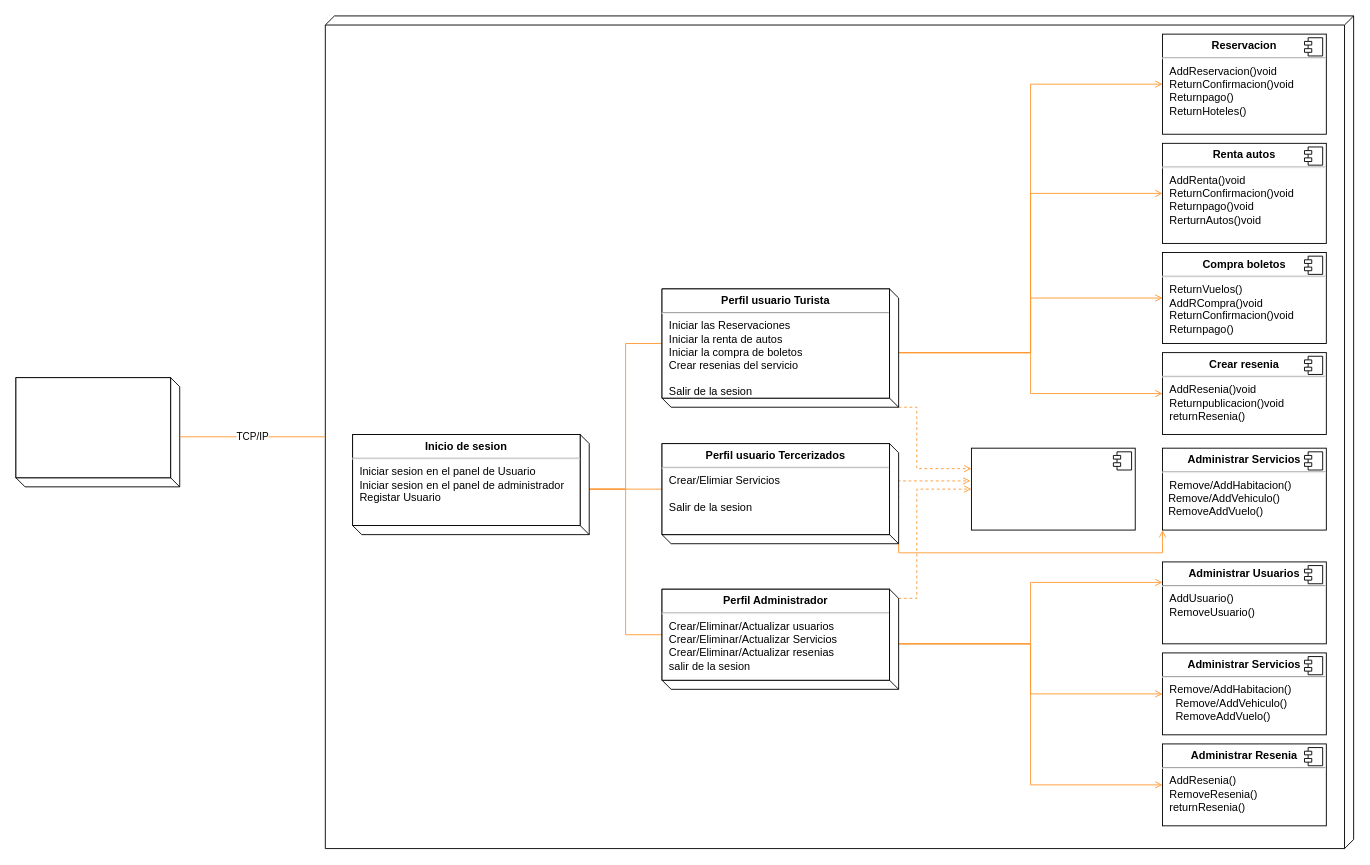
The diagram is 1370 pixels wide and 865 high, and some of its shapes have lost their labels. The shapes that lost their labels are listed below. From the top down, each one's centre as x and y in pixels, then its label:
(93,427): Dispositivo Servidor de Base de datos +Usuario
(1053,488): salir de la sesion Inicializar el sistema de inicio de sesion
